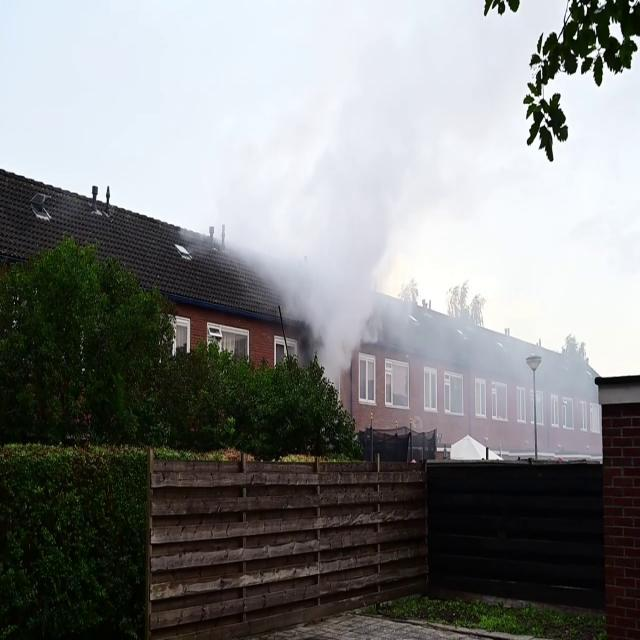Smoke: (190, 50, 414, 366)
